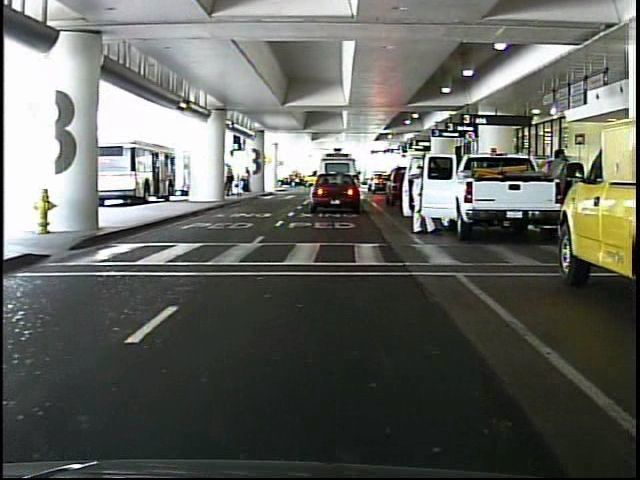person: (408, 146, 441, 237), (540, 143, 576, 221), (242, 165, 256, 195), (223, 163, 235, 198)
